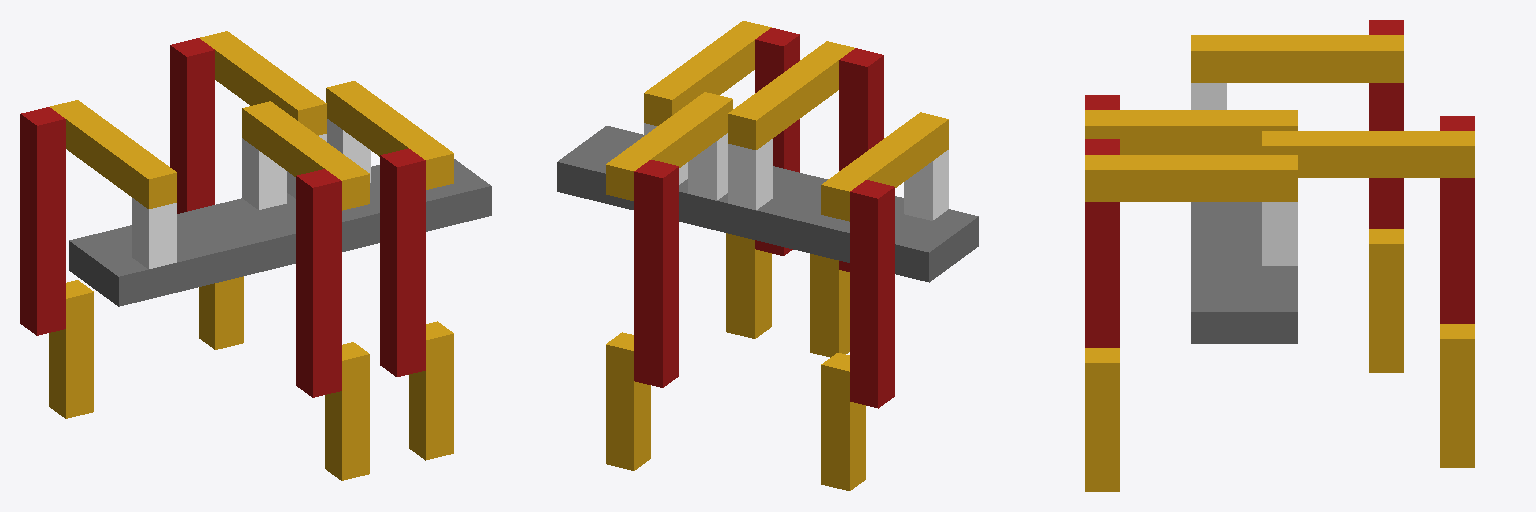
robot.urdf — v0:
<?xml version="1.0" encoding="utf-8"?>
<!-- =================================================================================== -->
<!-- |    This document was autogenerated by xacro from ../robots/v0variants/xacros/v0_4l_7.xacro | -->
<!-- |    EDITING THIS FILE BY HAND IS NOT RECOMMENDED                                 | -->
<!-- =================================================================================== -->
<robot name="v0">
  <material name="grey">
    <color rgba="0.5 0.5 0.5 1"/>
  </material>
  <material name="white">
    <color rgba="1 1 1 1"/>
  </material>
  <material name="yellow">
    <color rgba="0.91 0.7 0.14 1"/>
  </material>
  <material name="red">
    <color rgba="0.71 0.14 0.14 1"/>
  </material>
  <link name="body">
    <visual>
      <geometry>
        <box size="1.3 0.3 0.1"/>
      </geometry>
      <material name="grey"/>
      <origin rpy="0 0 0" xyz="0 0 0.7"/>
    </visual>
    <collision>
      <geometry>
        <box size="1.3 0.3 0.1"/>
      </geometry>
      <origin rpy="0 0 0" xyz="0 0 0.7"/>
    </collision>
    <inertial>
      <mass value="99.84"/>
      <inertia ixx="0.832" ixy="0.0" ixz="0.0" iyy="14.144" iyz="0.0" izz="14.8096"/>
    </inertial>
  </link>
  <link name="l1_segment_1">
    <visual>
      <geometry>
        <box size="0.1 0.1 0.2"/>
      </geometry>
      <material name="white"/>
      <origin rpy="0 0 0" xyz="0 0 0.1"/>
    </visual>
    <collision>
      <geometry>
        <box size="0.1 0.1 0.2"/>
      </geometry>
      <origin rpy="0 0 0" xyz="0 0 0.1"/>
    </collision>
    <inertial>
      <mass value="5.12"/>
      <inertia ixx="0.0213333333333" ixy="0.0" ixz="0.0" iyy="0.0213333333333" iyz="0.0" izz="0.00853333333333"/>
    </inertial>
  </link>
  <joint name="l1_base_to_joint_1" type="fixed">
    <parent link="body"/>
    <child link="l1_segment_1"/>
    <origin rpy="0 0 0" xyz="-0.49557949437946286 -0.1 0.75"/>
  </joint>
  <link name="l1_segment_2_HIP">
    <visual>
      <geometry>
        <box size="0.1 0.6 0.1"/>
      </geometry>
      <material name="yellow"/>
      <origin rpy="0 0 0" xyz="0 0.25 0"/>
    </visual>
    <collision>
      <geometry>
        <box size="0.1 0.6 0.1"/>
      </geometry>
      <origin rpy="0 0 0" xyz="0 0.25 0"/>
    </collision>
    <inertial>
      <mass value="15.36"/>
      <inertia ixx="0.4736" ixy="0.0" ixz="0.0" iyy="0.0256" iyz="0.0" izz="0.4736"/>
    </inertial>
  </link>
  <joint name="l1_joint_1_to_2" type="revolute">
    <parent link="l1_segment_1"/>
    <child link="l1_segment_2_HIP"/>
    <origin rpy="0 0 0" xyz="0 0 0.25"/>
    <axis xyz="0.0 0.0 1.0"/>
    <limit effort="2048" lower="-1.2" upper="1.2" velocity="20"/>
  </joint>
  <link name="l1_segment_3_THIGH">
    <visual>
      <geometry>
        <box size="0.1 0.1 0.7"/>
      </geometry>
      <material name="red"/>
      <origin rpy="0 0 0" xyz="0 0 -0.3"/>
    </visual>
    <collision>
      <geometry>
        <box size="0.1 0.1 0.7"/>
      </geometry>
      <origin rpy="0 0 0" xyz="0 0 -0.3"/>
    </collision>
    <inertial>
      <mass value="17.92"/>
      <inertia ixx="0.746666666667" ixy="0.0" ixz="0.0" iyy="0.746666666667" iyz="0.0" izz="0.0298666666667"/>
    </inertial>
  </link>
  <joint name="l1_joint_2_to_3" type="revolute">
    <parent link="l1_segment_2_HIP"/>
    <child link="l1_segment_3_THIGH"/>
    <origin rpy="0 0 0" xyz="-0.1 0.5 0"/>
    <axis xyz="1.0 0.0 0.0"/>
    <limit effort="2048" lower="-0.2" upper="0.75" velocity="20"/>
  </joint>
  <link name="l1_segment_4_FOOT">
    <visual>
      <geometry>
        <box size="0.1 0.1 0.4"/>
      </geometry>
      <material name="yellow"/>
      <origin rpy="0 0 0" xyz="0 0 -0.2"/>
    </visual>
    <collision>
      <geometry>
        <box size="0.1 0.1 0.4"/>
      </geometry>
      <origin rpy="0 0 0" xyz="0 0 -0.2"/>
    </collision>
    <inertial>
      <mass value="10.24"/>
      <inertia ixx="0.145066666667" ixy="0.0" ixz="0.0" iyy="0.145066666667" iyz="0.0" izz="0.0170666666667"/>
    </inertial>
  </link>
  <joint name="l1_joint_3_to_4_FOOT" type="revolute">
    <parent link="l1_segment_3_THIGH"/>
    <child link="l1_segment_4_FOOT"/>
    <origin rpy="0 0 0" xyz="0.1 0 -0.55"/>
    <axis xyz="1.0 0.0 0.0"/>
    <limit effort="2048" lower="-0.2" upper="0.5" velocity="20"/>
  </joint>
  <link name="r2_segment_1">
    <visual>
      <geometry>
        <box size="0.1 0.1 0.2"/>
      </geometry>
      <material name="white"/>
      <origin rpy="0 0 0" xyz="0 0 0.1"/>
    </visual>
    <collision>
      <geometry>
        <box size="0.1 0.1 0.2"/>
      </geometry>
      <origin rpy="0 0 0" xyz="0 0 0.1"/>
    </collision>
    <inertial>
      <mass value="5.12"/>
      <inertia ixx="0.0213333333333" ixy="0.0" ixz="0.0" iyy="0.0213333333333" iyz="0.0" izz="0.00853333333333"/>
    </inertial>
  </link>
  <joint name="r2_base_to_joint_1" type="fixed">
    <parent link="body"/>
    <child link="r2_segment_1"/>
    <origin rpy="0 0 0" xyz="0.003876981903259774 0.1 0.75"/>
  </joint>
  <link name="r2_segment_2_HIP">
    <visual>
      <geometry>
        <box size="0.1 0.6 0.1"/>
      </geometry>
      <material name="yellow"/>
      <origin rpy="0 0 0" xyz="0 -0.25 0"/>
    </visual>
    <collision>
      <geometry>
        <box size="0.1 0.6 0.1"/>
      </geometry>
      <origin rpy="0 0 0" xyz="0 -0.25 0"/>
    </collision>
    <inertial>
      <mass value="15.36"/>
      <inertia ixx="0.4736" ixy="0.0" ixz="0.0" iyy="0.0256" iyz="0.0" izz="0.4736"/>
    </inertial>
  </link>
  <joint name="r2_joint_1_to_2" type="revolute">
    <parent link="r2_segment_1"/>
    <child link="r2_segment_2_HIP"/>
    <origin rpy="0 0 0" xyz="0 0 0.25"/>
    <axis xyz="0.0 0.0 1.0"/>
    <limit effort="2048" lower="-1.2" upper="1.2" velocity="20"/>
  </joint>
  <link name="r2_segment_3_THIGH">
    <visual>
      <geometry>
        <box size="0.1 0.1 0.7"/>
      </geometry>
      <material name="red"/>
      <origin rpy="0 0 0" xyz="0 0 -0.3"/>
    </visual>
    <collision>
      <geometry>
        <box size="0.1 0.1 0.7"/>
      </geometry>
      <origin rpy="0 0 0" xyz="0 0 -0.3"/>
    </collision>
    <inertial>
      <mass value="17.92"/>
      <inertia ixx="0.746666666667" ixy="0.0" ixz="0.0" iyy="0.746666666667" iyz="0.0" izz="0.0298666666667"/>
    </inertial>
  </link>
  <joint name="r2_joint_2_to_3" type="revolute">
    <parent link="r2_segment_2_HIP"/>
    <child link="r2_segment_3_THIGH"/>
    <origin rpy="0 0 0" xyz="-0.1 -0.5 0"/>
    <axis xyz="1.0 0.0 0.0"/>
    <limit effort="2048" lower="-0.75" upper="0.2" velocity="20"/>
  </joint>
  <link name="r2_segment_4_FOOT">
    <visual>
      <geometry>
        <box size="0.1 0.1 0.4"/>
      </geometry>
      <material name="yellow"/>
      <origin rpy="0 0 0" xyz="0 0 -0.2"/>
    </visual>
    <collision>
      <geometry>
        <box size="0.1 0.1 0.4"/>
      </geometry>
      <origin rpy="0 0 0" xyz="0 0 -0.2"/>
    </collision>
    <inertial>
      <mass value="10.24"/>
      <inertia ixx="0.145066666667" ixy="0.0" ixz="0.0" iyy="0.145066666667" iyz="0.0" izz="0.0170666666667"/>
    </inertial>
  </link>
  <joint name="r2_joint_3_to_4_FOOT" type="revolute">
    <parent link="r2_segment_3_THIGH"/>
    <child link="r2_segment_4_FOOT"/>
    <origin rpy="0 0 0" xyz="0.1 0 -0.55"/>
    <axis xyz="1.0 0.0 0.0"/>
    <limit effort="2048" lower="-0.5" upper="0.2" velocity="20"/>
  </joint>
  <link name="l3_segment_1">
    <visual>
      <geometry>
        <box size="0.1 0.1 0.2"/>
      </geometry>
      <material name="white"/>
      <origin rpy="0 0 0" xyz="0 0 0.1"/>
    </visual>
    <collision>
      <geometry>
        <box size="0.1 0.1 0.2"/>
      </geometry>
      <origin rpy="0 0 0" xyz="0 0 0.1"/>
    </collision>
    <inertial>
      <mass value="5.12"/>
      <inertia ixx="0.0213333333333" ixy="0.0" ixz="0.0" iyy="0.0213333333333" iyz="0.0" izz="0.00853333333333"/>
    </inertial>
  </link>
  <joint name="l3_base_to_joint_1" type="fixed">
    <parent link="body"/>
    <child link="l3_segment_1"/>
    <origin rpy="0 0 0" xyz="0.1417001990866208 0.1 0.75"/>
  </joint>
  <link name="l3_segment_2_HIP">
    <visual>
      <geometry>
        <box size="0.1 0.6 0.1"/>
      </geometry>
      <material name="yellow"/>
      <origin rpy="0 0 0" xyz="0 0.25 0"/>
    </visual>
    <collision>
      <geometry>
        <box size="0.1 0.6 0.1"/>
      </geometry>
      <origin rpy="0 0 0" xyz="0 0.25 0"/>
    </collision>
    <inertial>
      <mass value="15.36"/>
      <inertia ixx="0.4736" ixy="0.0" ixz="0.0" iyy="0.0256" iyz="0.0" izz="0.4736"/>
    </inertial>
  </link>
  <joint name="l3_joint_1_to_2" type="revolute">
    <parent link="l3_segment_1"/>
    <child link="l3_segment_2_HIP"/>
    <origin rpy="0 0 0" xyz="0 0 0.25"/>
    <axis xyz="0.0 0.0 1.0"/>
    <limit effort="2048" lower="-1.2" upper="1.2" velocity="20"/>
  </joint>
  <link name="l3_segment_3_THIGH">
    <visual>
      <geometry>
        <box size="0.1 0.1 0.7"/>
      </geometry>
      <material name="red"/>
      <origin rpy="0 0 0" xyz="0 0 -0.3"/>
    </visual>
    <collision>
      <geometry>
        <box size="0.1 0.1 0.7"/>
      </geometry>
      <origin rpy="0 0 0" xyz="0 0 -0.3"/>
    </collision>
    <inertial>
      <mass value="17.92"/>
      <inertia ixx="0.746666666667" ixy="0.0" ixz="0.0" iyy="0.746666666667" iyz="0.0" izz="0.0298666666667"/>
    </inertial>
  </link>
  <joint name="l3_joint_2_to_3" type="revolute">
    <parent link="l3_segment_2_HIP"/>
    <child link="l3_segment_3_THIGH"/>
    <origin rpy="0 0 0" xyz="-0.1 0.5 0"/>
    <axis xyz="1.0 0.0 0.0"/>
    <limit effort="2048" lower="-0.2" upper="0.75" velocity="20"/>
  </joint>
  <link name="l3_segment_4_FOOT">
    <visual>
      <geometry>
        <box size="0.1 0.1 0.4"/>
      </geometry>
      <material name="yellow"/>
      <origin rpy="0 0 0" xyz="0 0 -0.2"/>
    </visual>
    <collision>
      <geometry>
        <box size="0.1 0.1 0.4"/>
      </geometry>
      <origin rpy="0 0 0" xyz="0 0 -0.2"/>
    </collision>
    <inertial>
      <mass value="10.24"/>
      <inertia ixx="0.145066666667" ixy="0.0" ixz="0.0" iyy="0.145066666667" iyz="0.0" izz="0.0170666666667"/>
    </inertial>
  </link>
  <joint name="l3_joint_3_to_4_FOOT" type="revolute">
    <parent link="l3_segment_3_THIGH"/>
    <child link="l3_segment_4_FOOT"/>
    <origin rpy="0 0 0" xyz="0.1 0 -0.55"/>
    <axis xyz="1.0 0.0 0.0"/>
    <limit effort="2048" lower="-0.2" upper="0.5" velocity="20"/>
  </joint>
  <link name="r4_segment_1">
    <visual>
      <geometry>
        <box size="0.1 0.1 0.2"/>
      </geometry>
      <material name="white"/>
      <origin rpy="0 0 0" xyz="0 0 0.1"/>
    </visual>
    <collision>
      <geometry>
        <box size="0.1 0.1 0.2"/>
      </geometry>
      <origin rpy="0 0 0" xyz="0 0 0.1"/>
    </collision>
    <inertial>
      <mass value="5.12"/>
      <inertia ixx="0.0213333333333" ixy="0.0" ixz="0.0" iyy="0.0213333333333" iyz="0.0" izz="0.00853333333333"/>
    </inertial>
  </link>
  <joint name="r4_base_to_joint_1" type="fixed">
    <parent link="body"/>
    <child link="r4_segment_1"/>
    <origin rpy="0 0 0" xyz="0.2969758780400521 0.1 0.75"/>
  </joint>
  <link name="r4_segment_2_HIP">
    <visual>
      <geometry>
        <box size="0.1 0.6 0.1"/>
      </geometry>
      <material name="yellow"/>
      <origin rpy="0 0 0" xyz="0 -0.25 0"/>
    </visual>
    <collision>
      <geometry>
        <box size="0.1 0.6 0.1"/>
      </geometry>
      <origin rpy="0 0 0" xyz="0 -0.25 0"/>
    </collision>
    <inertial>
      <mass value="15.36"/>
      <inertia ixx="0.4736" ixy="0.0" ixz="0.0" iyy="0.0256" iyz="0.0" izz="0.4736"/>
    </inertial>
  </link>
  <joint name="r4_joint_1_to_2" type="revolute">
    <parent link="r4_segment_1"/>
    <child link="r4_segment_2_HIP"/>
    <origin rpy="0 0 0" xyz="0 0 0.25"/>
    <axis xyz="0.0 0.0 1.0"/>
    <limit effort="2048" lower="-1.2" upper="1.2" velocity="20"/>
  </joint>
  <link name="r4_segment_3_THIGH">
    <visual>
      <geometry>
        <box size="0.1 0.1 0.7"/>
      </geometry>
      <material name="red"/>
      <origin rpy="0 0 0" xyz="0 0 -0.3"/>
    </visual>
    <collision>
      <geometry>
        <box size="0.1 0.1 0.7"/>
      </geometry>
      <origin rpy="0 0 0" xyz="0 0 -0.3"/>
    </collision>
    <inertial>
      <mass value="17.92"/>
      <inertia ixx="0.746666666667" ixy="0.0" ixz="0.0" iyy="0.746666666667" iyz="0.0" izz="0.0298666666667"/>
    </inertial>
  </link>
  <joint name="r4_joint_2_to_3" type="revolute">
    <parent link="r4_segment_2_HIP"/>
    <child link="r4_segment_3_THIGH"/>
    <origin rpy="0 0 0" xyz="-0.1 -0.5 0"/>
    <axis xyz="1.0 0.0 0.0"/>
    <limit effort="2048" lower="-0.75" upper="0.2" velocity="20"/>
  </joint>
  <link name="r4_segment_4_FOOT">
    <visual>
      <geometry>
        <box size="0.1 0.1 0.4"/>
      </geometry>
      <material name="yellow"/>
      <origin rpy="0 0 0" xyz="0 0 -0.2"/>
    </visual>
    <collision>
      <geometry>
        <box size="0.1 0.1 0.4"/>
      </geometry>
      <origin rpy="0 0 0" xyz="0 0 -0.2"/>
    </collision>
    <inertial>
      <mass value="10.24"/>
      <inertia ixx="0.145066666667" ixy="0.0" ixz="0.0" iyy="0.145066666667" iyz="0.0" izz="0.0170666666667"/>
    </inertial>
  </link>
  <joint name="r4_joint_3_to_4_FOOT" type="revolute">
    <parent link="r4_segment_3_THIGH"/>
    <child link="r4_segment_4_FOOT"/>
    <origin rpy="0 0 0" xyz="0.1 0 -0.55"/>
    <axis xyz="1.0 0.0 0.0"/>
    <limit effort="2048" lower="-0.5" upper="0.2" velocity="20"/>
  </joint>
</robot>

--- What the picture shows (computed from the rendered views, not written in the file) ---
3 views of the same robot in one strip: view 1: azimuth 30°, elevation 25°; view 2: azimuth 150°, elevation 25°; view 3: azimuth 270°, elevation 25° (orthographic).
Model v0 with 17 links and 16 joints (12 revolute, 4 fixed), rooted at body, posed all joints at 0.
Links seen in each view (by area): view 1: body, r2_segment_3_THIGH, r4_segment_3_THIGH, l1_segment_3_THIGH, l3_segment_3_THIGH, l1_segment_2_HIP, r2_segment_2_HIP, r4_segment_2_HIP, l3_segment_2_HIP, l1_segment_4_FOOT, r2_segment_4_FOOT, r4_segment_4_FOOT (+4 smaller); view 2: body, l1_segment_3_THIGH, l3_segment_3_THIGH, r2_segment_2_HIP, l1_segment_2_HIP, l3_segment_2_HIP, r4_segment_2_HIP, l1_segment_4_FOOT, l3_segment_4_FOOT, r2_segment_3_THIGH, r4_segment_4_FOOT, r2_segment_4_FOOT (+4 smaller); view 3: body, l1_segment_2_HIP, r4_segment_2_HIP, l3_segment_2_HIP, r2_segment_2_HIP, r4_segment_3_THIGH, l3_segment_3_THIGH, l1_segment_4_FOOT, l3_segment_4_FOOT, r4_segment_4_FOOT, l1_segment_3_THIGH, r4_segment_1 (+2 smaller).
Boxes of the visible links, x1,y1,x2,y2 form: body: (69,159,491,306); r2_segment_3_THIGH: (296,169,341,397); r4_segment_3_THIGH: (380,148,425,376); l1_segment_3_THIGH: (20,107,65,335); l3_segment_3_THIGH: (170,38,214,213); l1_segment_2_HIP: (50,100,176,208); r2_segment_2_HIP: (242,101,369,210); r4_segment_2_HIP: (326,81,453,189); l3_segment_2_HIP: (200,31,326,135); l1_segment_4_FOOT: (49,280,93,418); r2_segment_4_FOOT: (325,342,369,480); r4_segment_4_FOOT: (409,321,453,460); body: (557,126,978,282); l1_segment_3_THIGH: (850,180,894,408); l3_segment_3_THIGH: (634,160,678,387); r2_segment_2_HIP: (728,41,854,149); l1_segment_2_HIP: (821,112,948,221); l3_segment_2_HIP: (606,92,732,200); r4_segment_2_HIP: (644,21,771,125); l1_segment_4_FOOT: (821,353,865,490); l3_segment_4_FOOT: (606,332,650,470); r2_segment_3_THIGH: (839,48,883,271); r4_segment_4_FOOT: (726,233,771,338); r2_segment_4_FOOT: (810,254,849,357); body: (1191,202,1297,343); l1_segment_2_HIP: (1191,35,1403,82); r4_segment_2_HIP: (1085,155,1297,201); l3_segment_2_HIP: (1262,131,1474,177); r2_segment_2_HIP: (1085,110,1297,154); r4_segment_3_THIGH: (1085,139,1119,347); l3_segment_3_THIGH: (1440,116,1474,323); l1_segment_4_FOOT: (1369,229,1403,372); l3_segment_4_FOOT: (1440,324,1474,467); r4_segment_4_FOOT: (1085,348,1119,491); l1_segment_3_THIGH: (1369,20,1403,228); r4_segment_1: (1262,202,1297,265).
Size in the robot's own frame: 1.3 by 1.1 by 1 metres.
Geometry: primitives only (box / cylinder / sphere), no mesh files.